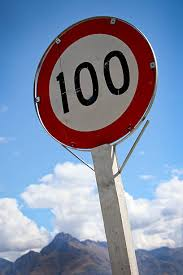Speed_limit_100km: (33, 16, 158, 151)
